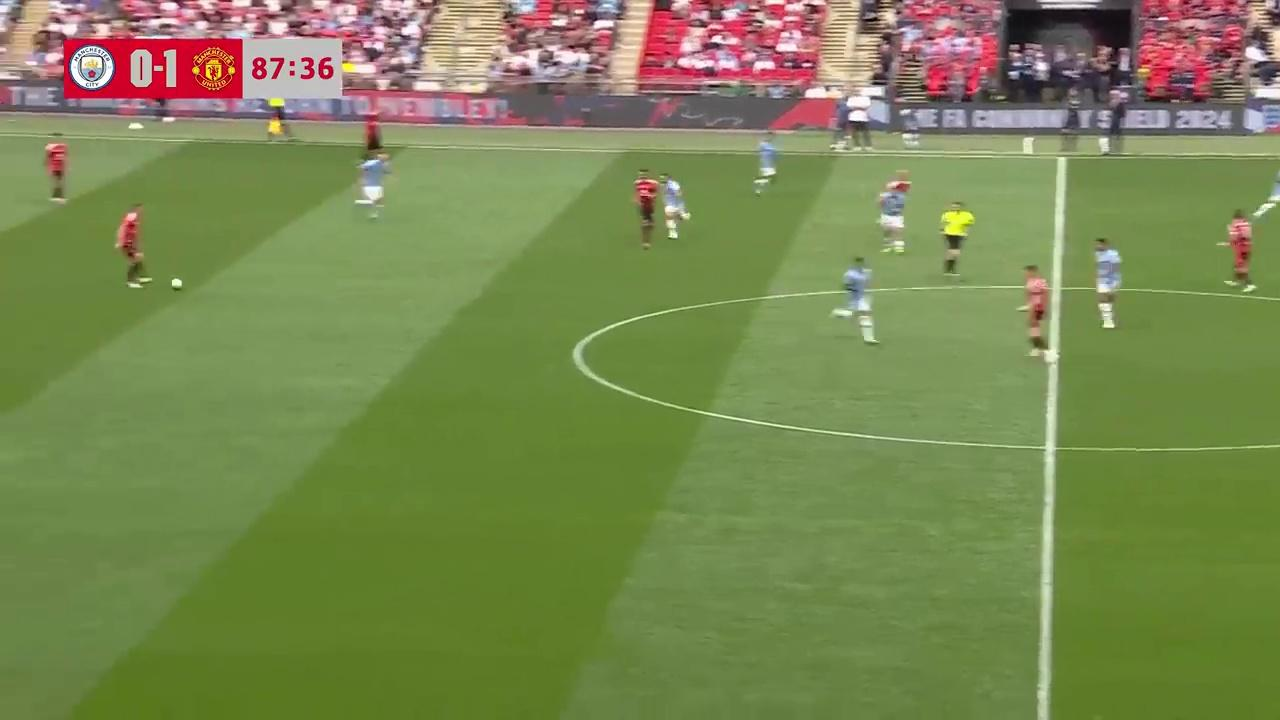ball: (170, 274, 184, 290)
player: (836, 255, 877, 344), (114, 203, 151, 288), (1219, 209, 1256, 291), (1020, 264, 1051, 360), (877, 172, 912, 253), (1093, 237, 1121, 330), (631, 168, 660, 249), (355, 149, 390, 215), (660, 172, 690, 239), (44, 136, 69, 203), (1251, 164, 1280, 221), (753, 135, 779, 195), (361, 111, 387, 161)
referee: (938, 199, 974, 277), (265, 90, 289, 143)
